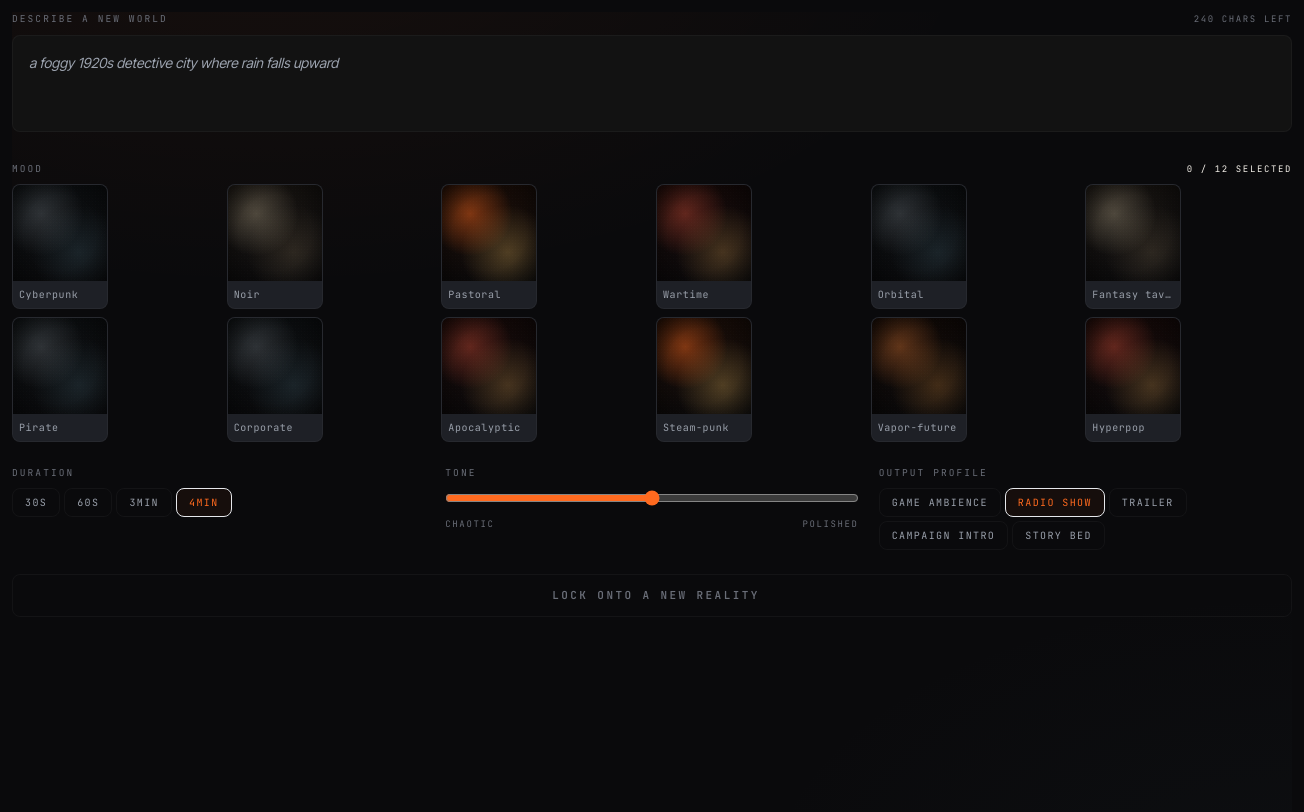
Test: StudioPrompt › character counter decrements as user types
Expected: the text with test id "studio-prompt-counter" shows "240", [1194,13,1215,25]
Type "abc" into the text box with test id "studio-prompt-textarea".
click(652, 83); type("abc")  # box [12,34,1292,132]
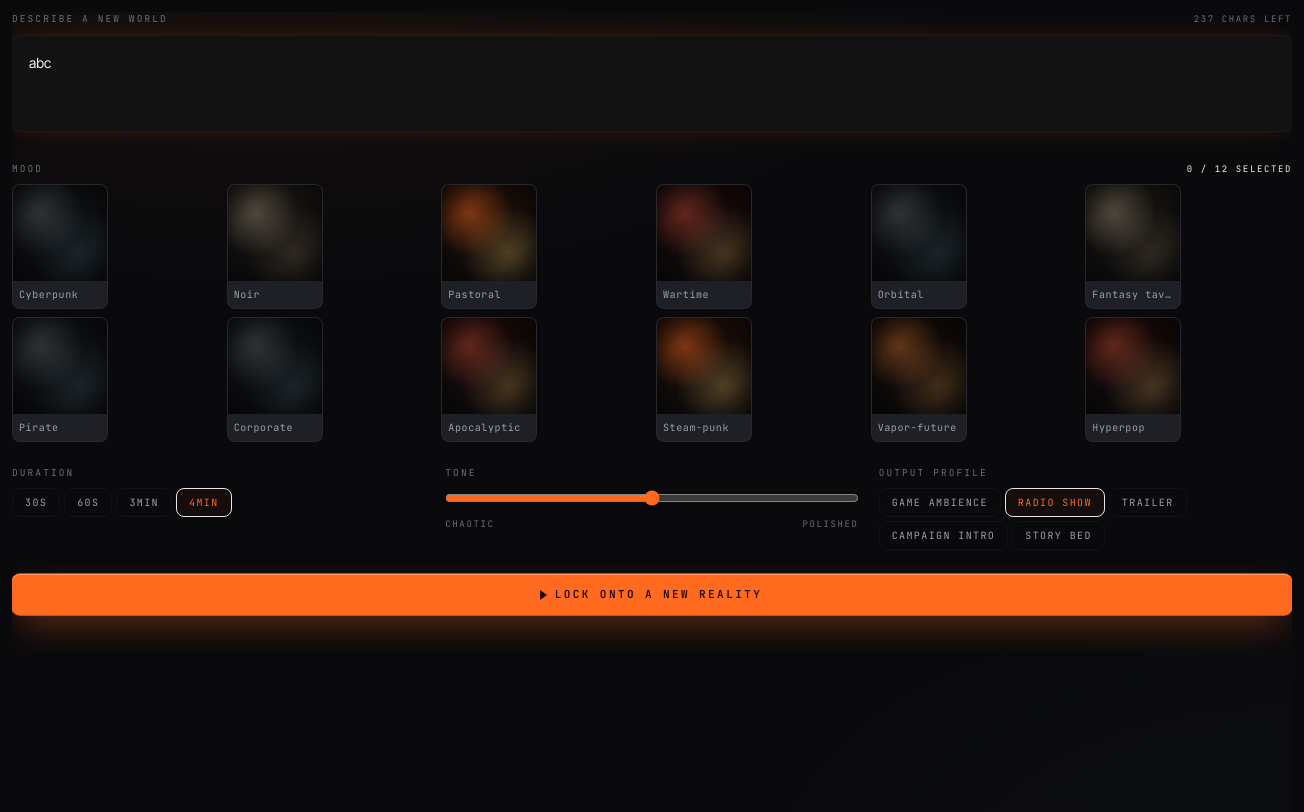
Now the text with test id "studio-prompt-counter" shows "237", box [1194,13,1215,25]
